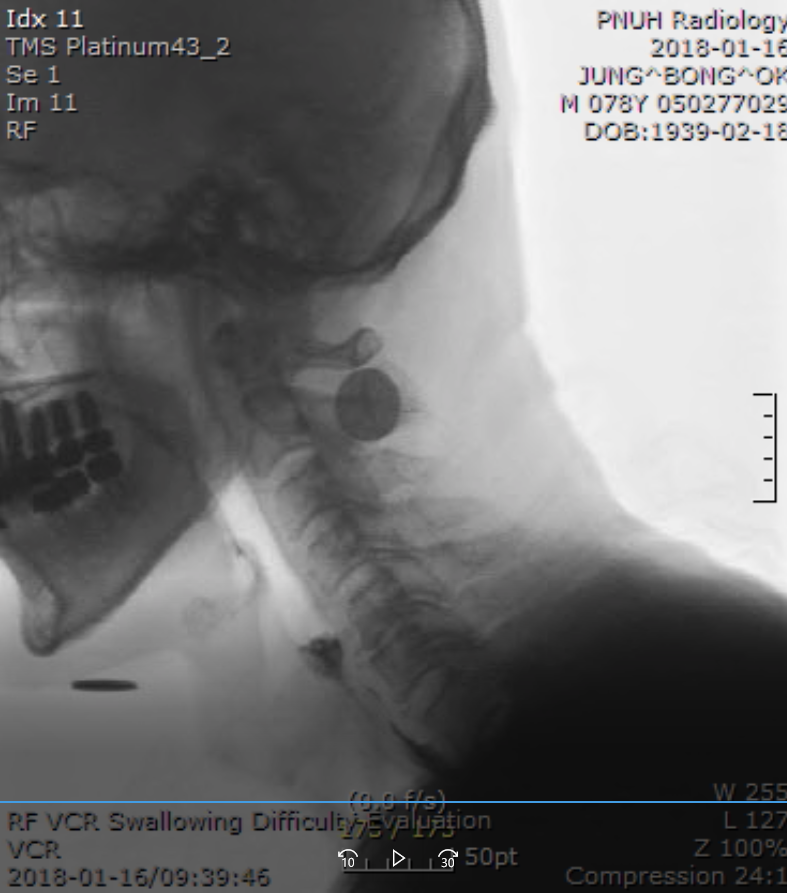dros: (272, 571, 334, 646)
food: (283, 618, 353, 682)
uros: (204, 539, 272, 612)
